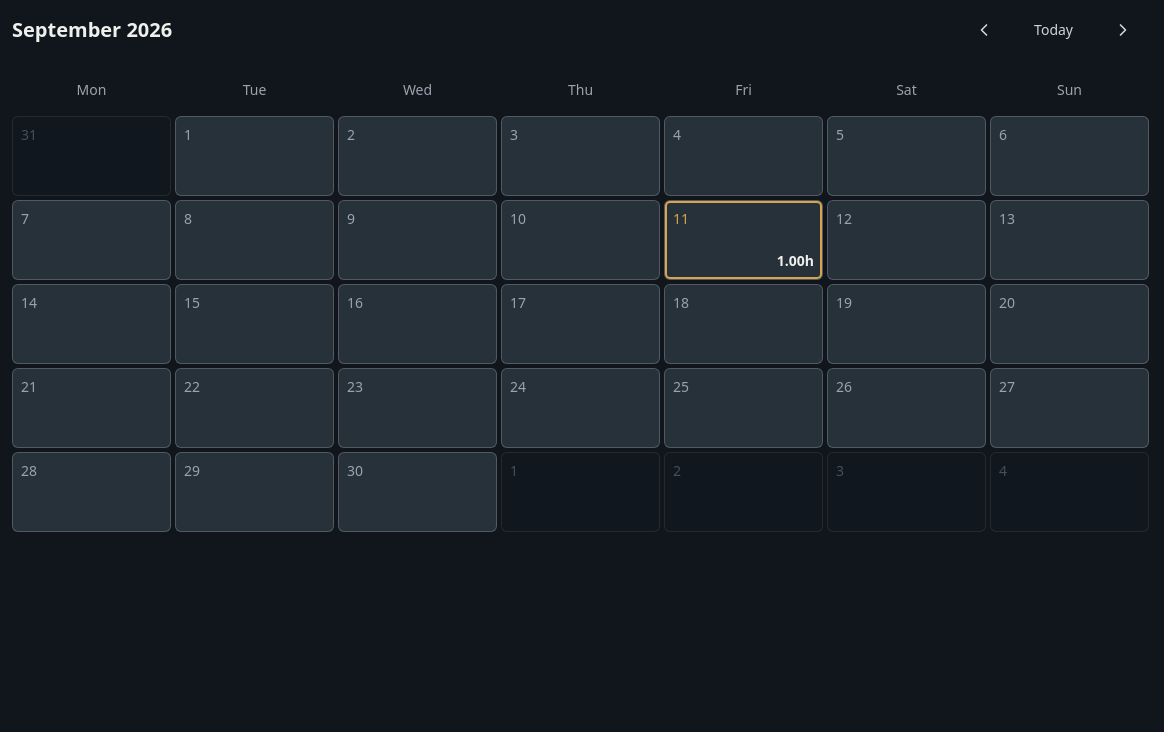
Test: M-6, M-7, M-10 Audit Fixes › M-6: TimesheetCalendarView day-detail panel filters out soft-deleted entries
Expected: the text "11" is shown, [673,209,689,228]
Click the text "11".
click(744, 240)  # box [664,200,823,280]
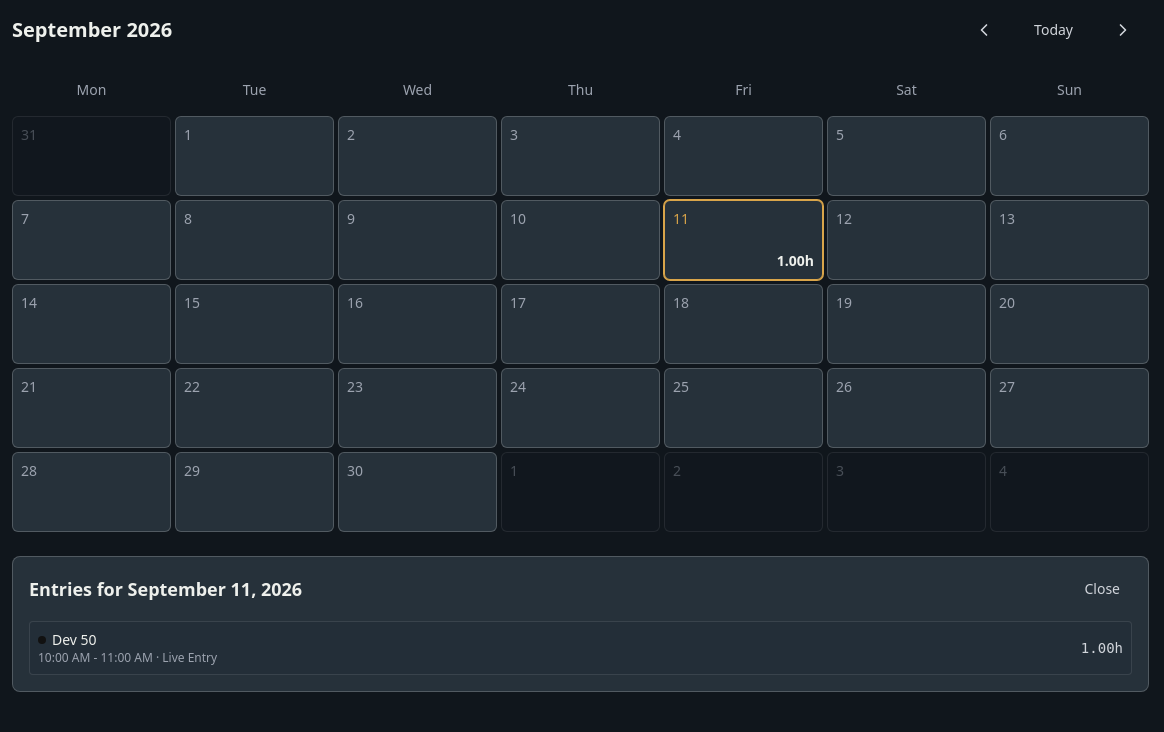
Result: the text "10:00 AM - 11:00 AM · Live Entry" is shown at [38,650,217,666]
